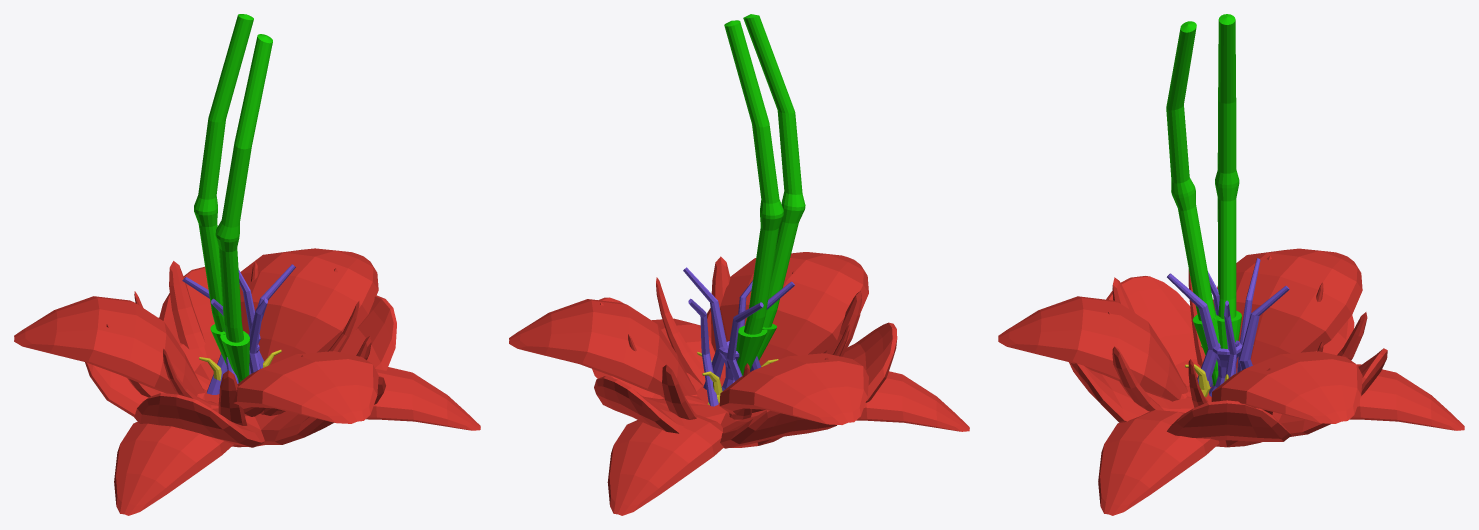
Rendered from flower.fbx.
3 renders of one model, left to right at view 1: azimuth 30°, elevation 25°; view 2: azimuth 150°, elevation 25°; view 3: azimuth 270°, elevation 25°, orthographic.
Visible parts, largest first — view 1: Plane, Flower1, Plant2, Plant, Flower3, Heart2; view 2: Plane, Flower1, Plant, Plant2, Flower3, Heart2, Heart1; view 3: Plane, Flower1, Plant, Plant2, Heart2, Flower3, Heart1.
Part boxes in pixels (x1,y1,x2,y2): Plane: (14,248,480,515); Flower1: (85,266,396,447); Plant2: (215,34,272,382); Plant: (194,14,253,364); Flower3: (106,261,371,447); Heart2: (182,264,295,394); Plane: (509,252,969,515); Flower1: (592,297,897,448); Plant: (724,20,783,375); Plant2: (743,14,805,360); Flower3: (600,256,861,447); Heart2: (683,267,794,406); Heart1: (697,341,778,404); Plane: (998,248,1464,515); Flower1: (1069,276,1387,441); Plant: (1213,14,1241,348); Plant2: (1166,21,1220,385); Heart2: (1167,258,1289,386); Flower3: (1108,256,1367,447); Heart1: (1185,340,1253,397).
Bounding box in the file's own units: 12.33 × 13.61 × 13.82.
